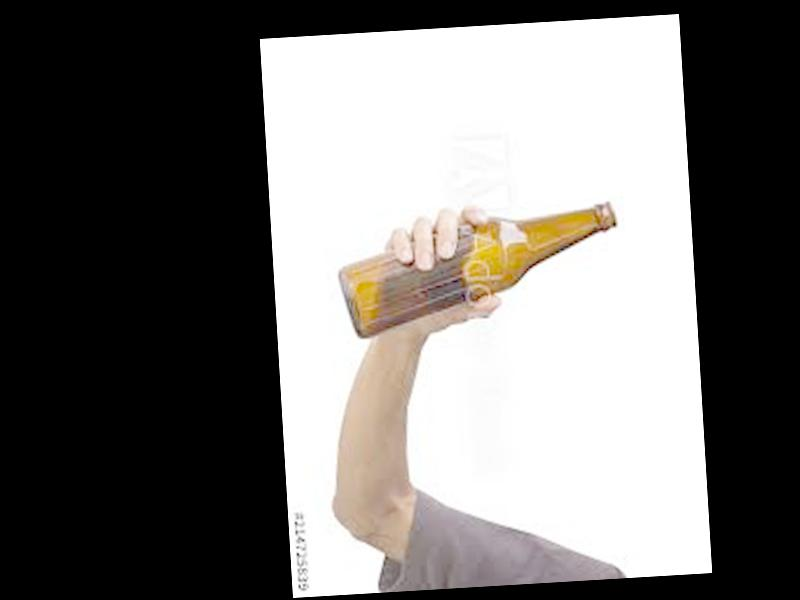Beer: (334, 199, 623, 340)
